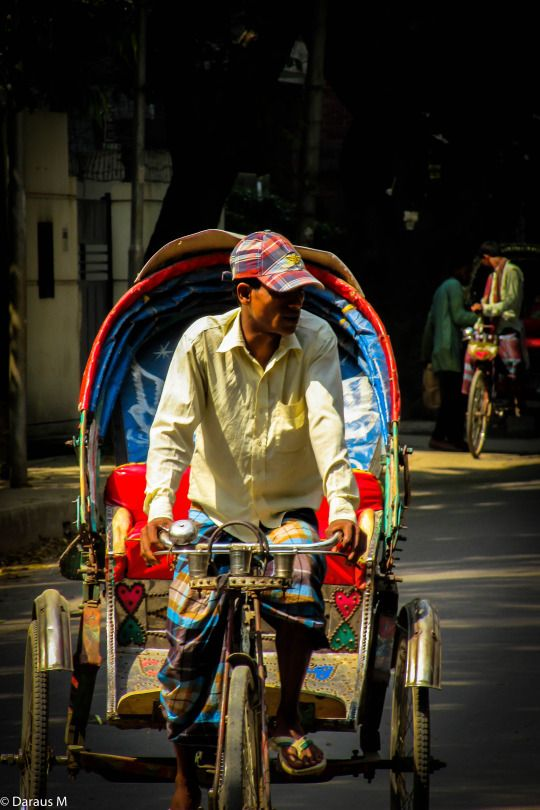Rickshaw: (29, 248, 420, 799)
